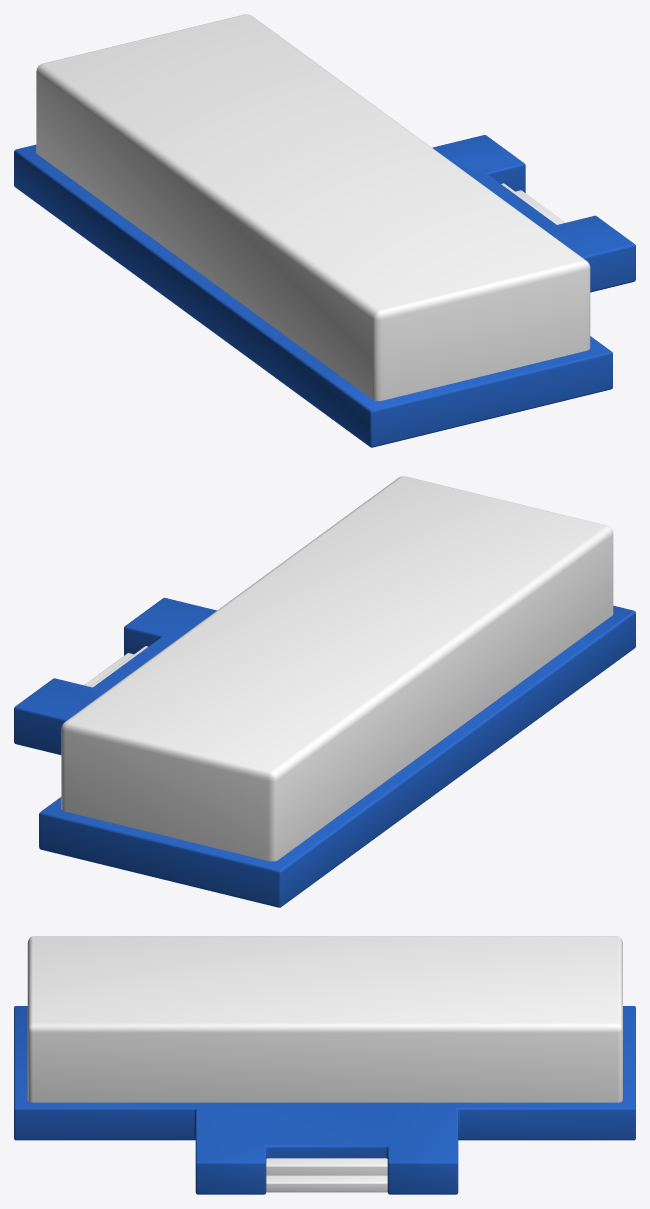
File: PIP_nursing-home-3d-2.glb
The picture shows the model from 3 angles, top to bottom: view 1: azimuth 30°, elevation 25°; view 2: azimuth 150°, elevation 25°; view 3: azimuth 270°, elevation 25°; orthographic projection. The views are drawn at different scales.
Parts seen in each view (by area): view 1: Cube.128, Cube.145; view 2: Cube.128, Cube.145; view 3: Cube.128, Cube.145, Cube.152, Cube.147.
Part boxes in pixels (box(x1,y1,x2,y2)): Cube.128: box(36, 14, 590, 400); Cube.145: box(14, 135, 635, 447); Cube.128: box(61, 476, 613, 861); Cube.145: box(14, 597, 635, 907); Cube.128: box(27, 936, 622, 1102); Cube.145: box(14, 1006, 635, 1194); Cube.152: box(266, 1175, 387, 1192); Cube.147: box(266, 1158, 387, 1175).
Bounding box in the file's own units: 0.8038 × 0.261 × 1.34.
